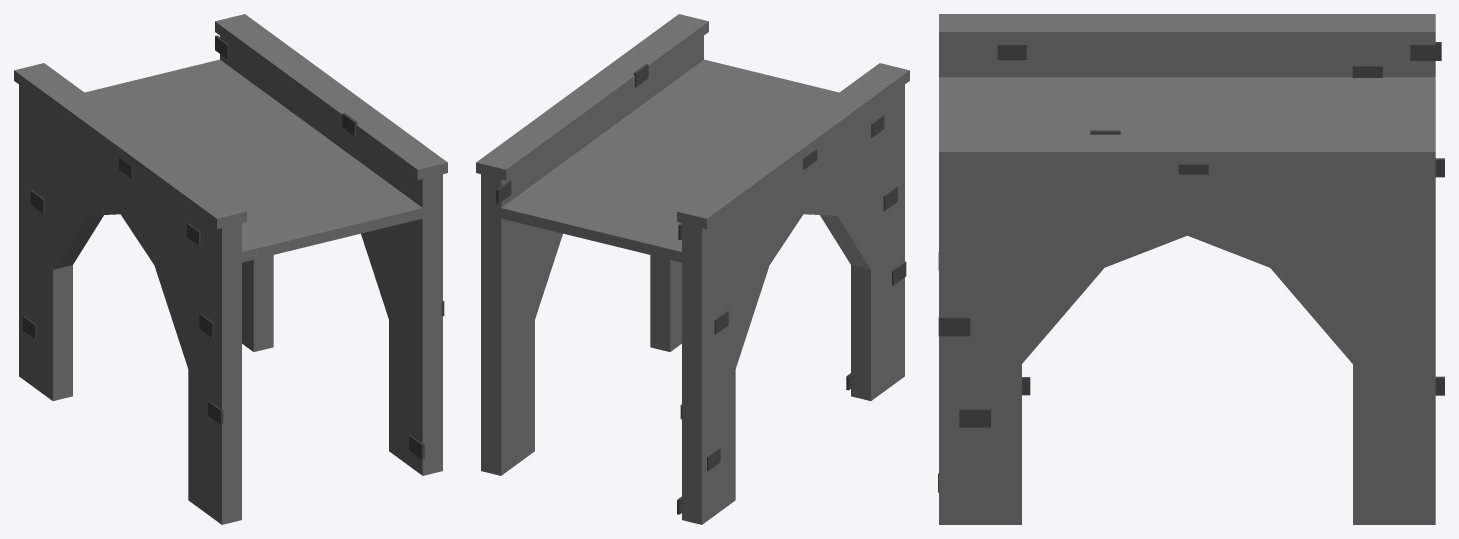
File: StoneBridge01_Straight.fbx
3 renders of one model, left to right at view 1: azimuth 30°, elevation 25°; view 2: azimuth 150°, elevation 25°; view 3: azimuth 270°, elevation 25°, orthographic. The views are drawn at different scales.
Visible parts, largest first — view 1: BridgeStraight; view 2: BridgeStraight; view 3: BridgeStraight.
Part boxes in pixels (bbox=[...]): BridgeStraight: bbox=[14, 14, 447, 524]; BridgeStraight: bbox=[476, 14, 909, 524]; BridgeStraight: bbox=[938, 14, 1444, 524].
Bounding box in the file's own units: 920 × 1179 × 1429.
